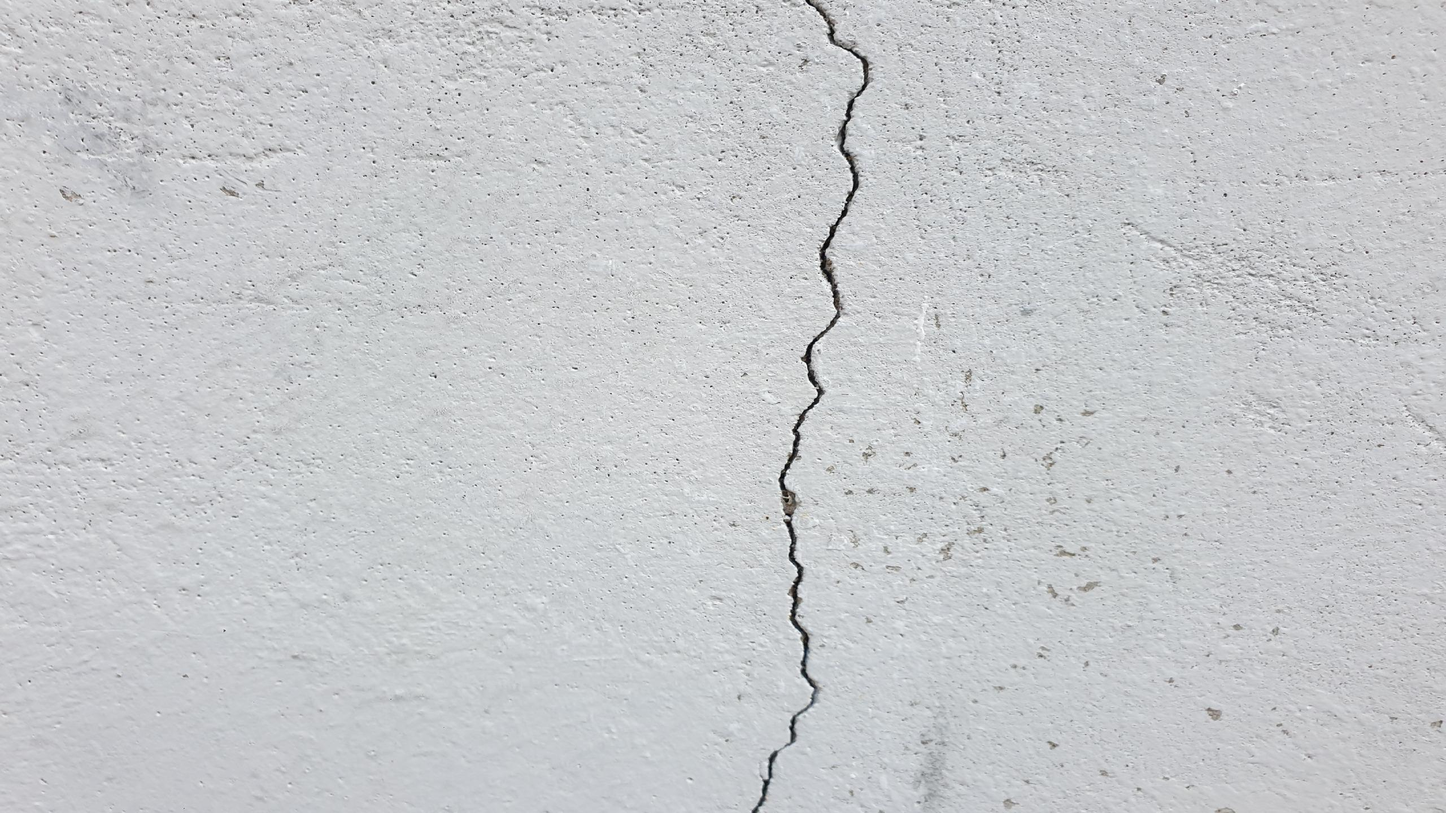crack: (751, 1, 869, 811)
